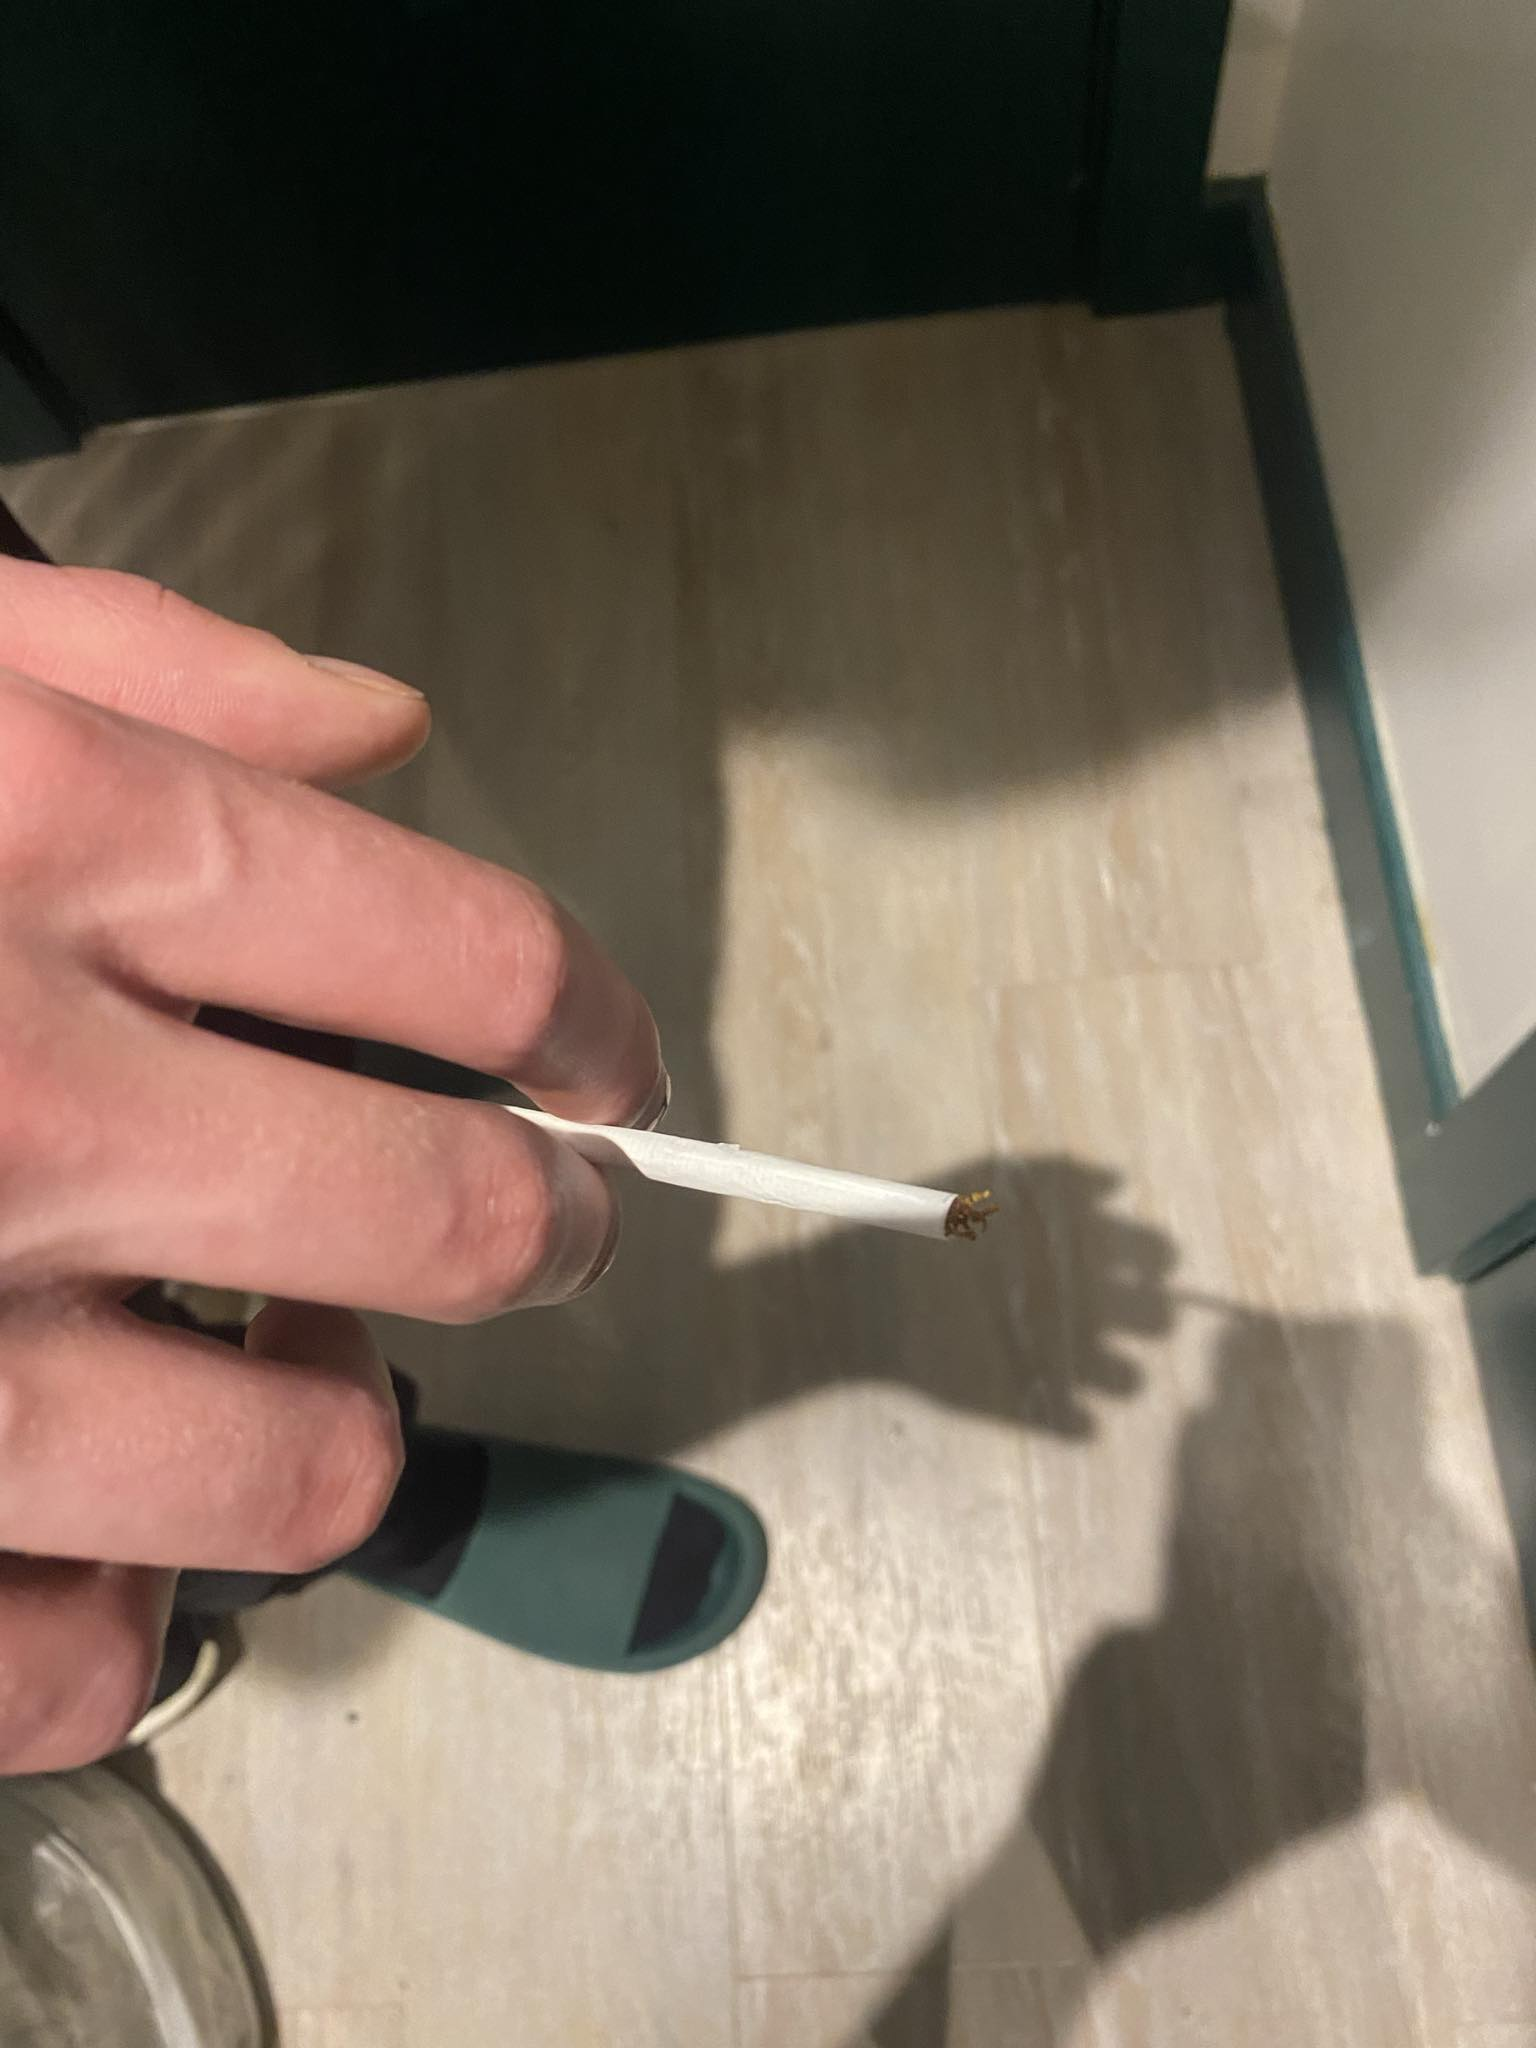Cigarette: (529, 1111, 999, 1245)
